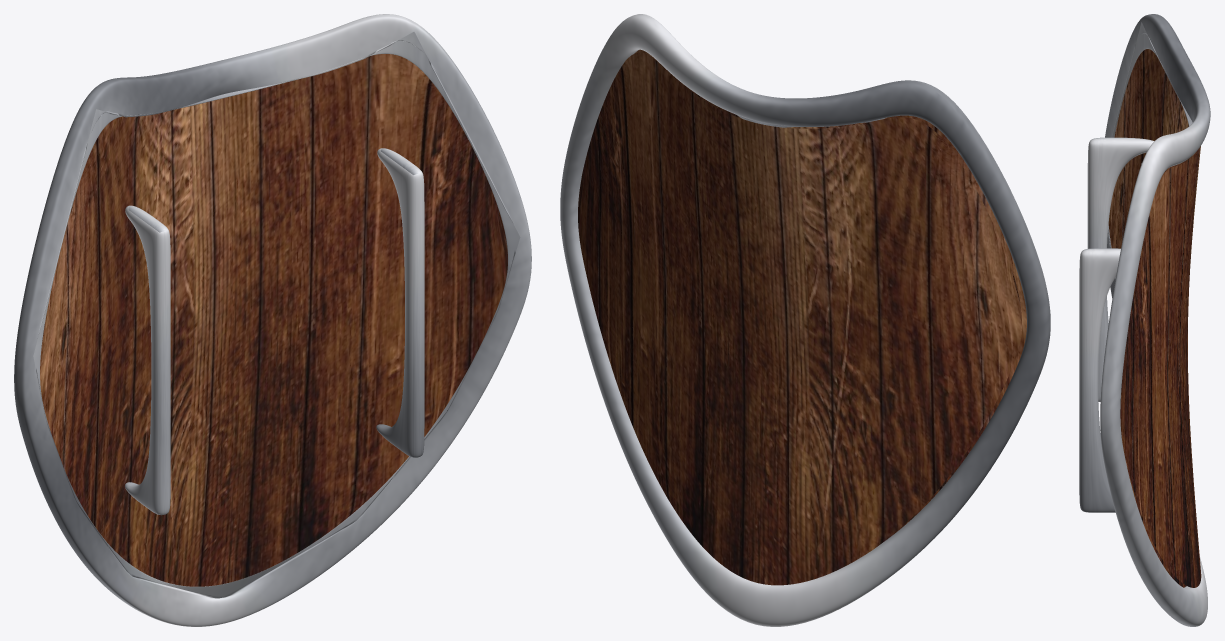
File: Escudo1.fbx
3 views of the same model, side by side, from view 1: azimuth 30°, elevation 25°; view 2: azimuth 150°, elevation 25°; view 3: azimuth 270°, elevation 25° (orthographic). The views are drawn at different scales.
Parts seen in each view (by area): view 1: Plane; view 2: Plane; view 3: Plane.
Part boxes in pixels (x1,y1,x2,y2): Plane: [14, 14, 531, 626]; Plane: [560, 14, 1050, 626]; Plane: [1079, 14, 1210, 626].
Size of the model in its own units: 412 by 451 by 100.
Materials: 1 (1 with a texture image).
